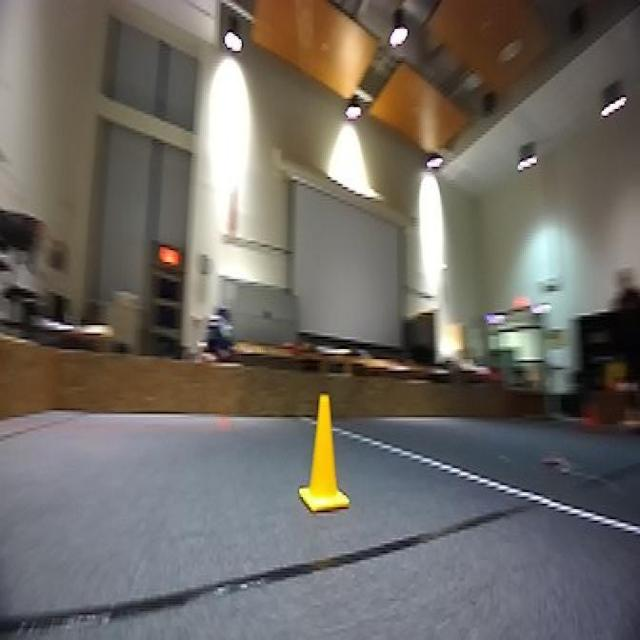frc_cone: (299, 392, 352, 518)
